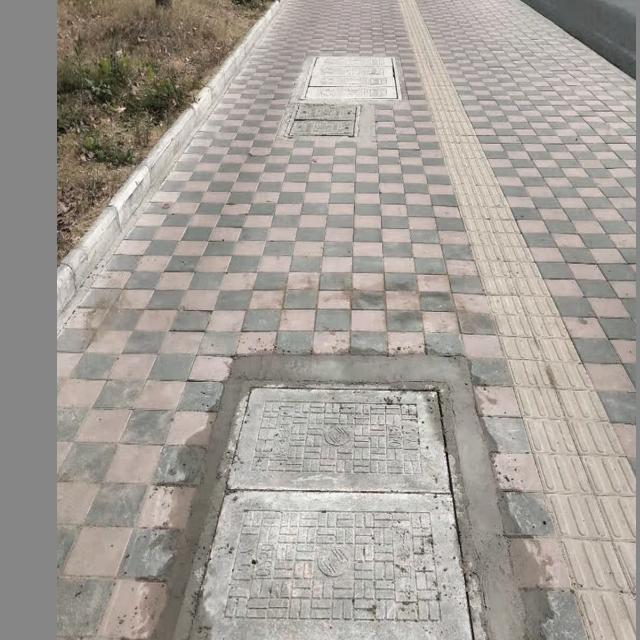good: (168, 380, 498, 640)
